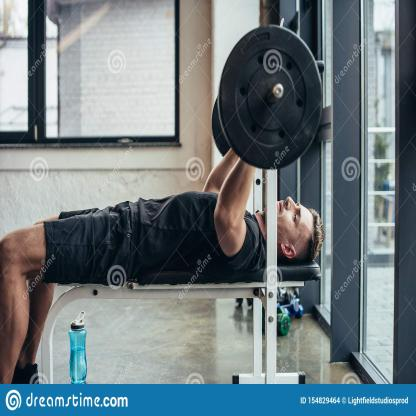Barbell: (213, 22, 327, 169)
